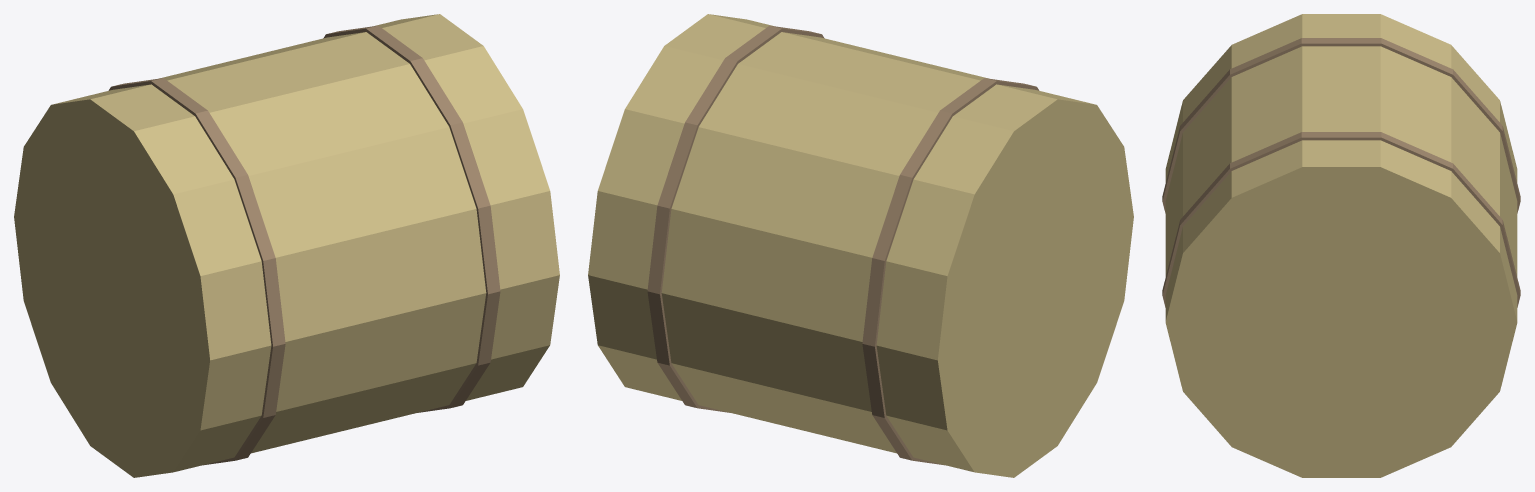
3 views of the same model, side by side, from view 1: azimuth 30°, elevation 25°; view 2: azimuth 150°, elevation 25°; view 3: azimuth 270°, elevation 25° (orthographic). The views are drawn at different scales.
Bounding box in the file's own units: 1.4 × 1.35 × 1.38.
